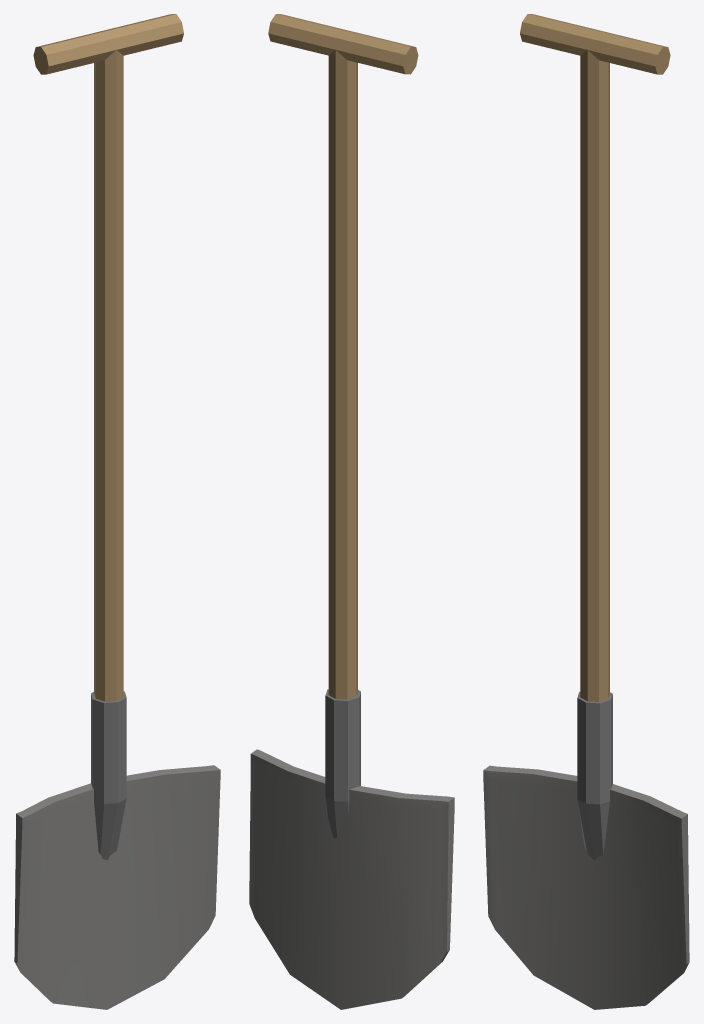
Rendered from atoll_Shovel.fbx.
3 views of the same model, side by side, from view 1: azimuth 30°, elevation 25°; view 2: azimuth 150°, elevation 25°; view 3: azimuth 330°, elevation 25° (orthographic).
Parts seen in each view (by area): view 1: Shovel, Handle, Shovel_Connect, Grip; view 2: Shovel, Handle, Grip, Shovel_Connect; view 3: Shovel, Handle, Shovel_Connect, Grip.
Part boxes in pixels (left/top/right/bottom): Shovel: left=14, top=765, right=220, bottom=1009; Handle: left=94, top=48, right=123, bottom=701; Shovel_Connect: left=91, top=691, right=126, bottom=859; Grip: left=33, top=14, right=183, bottom=74; Shovel: left=249, top=749, right=454, bottom=1009; Handle: left=328, top=48, right=357, bottom=699; Grip: left=268, top=14, right=418, bottom=74; Shovel_Connect: left=325, top=689, right=360, bottom=838; Shovel: left=483, top=765, right=689, bottom=1009; Handle: left=580, top=49, right=609, bottom=701; Shovel_Connect: left=577, top=691, right=612, bottom=859; Grip: left=520, top=14, right=670, bottom=74.
Size of the model in its own units: 57.55 by 272 by 11.
